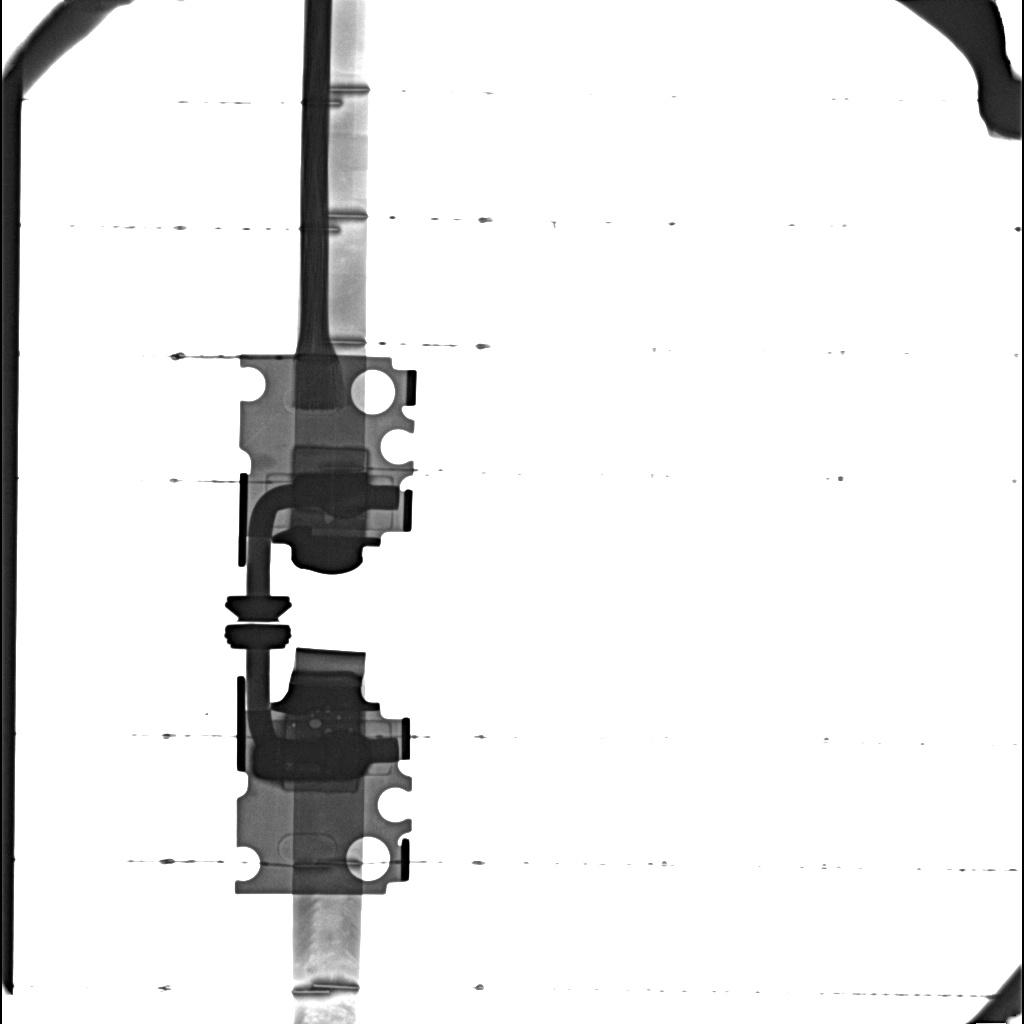defect: (252, 731, 369, 779), (294, 473, 367, 518), (292, 446, 369, 472), (280, 780, 361, 793), (308, 719, 322, 730), (324, 514, 334, 523)
